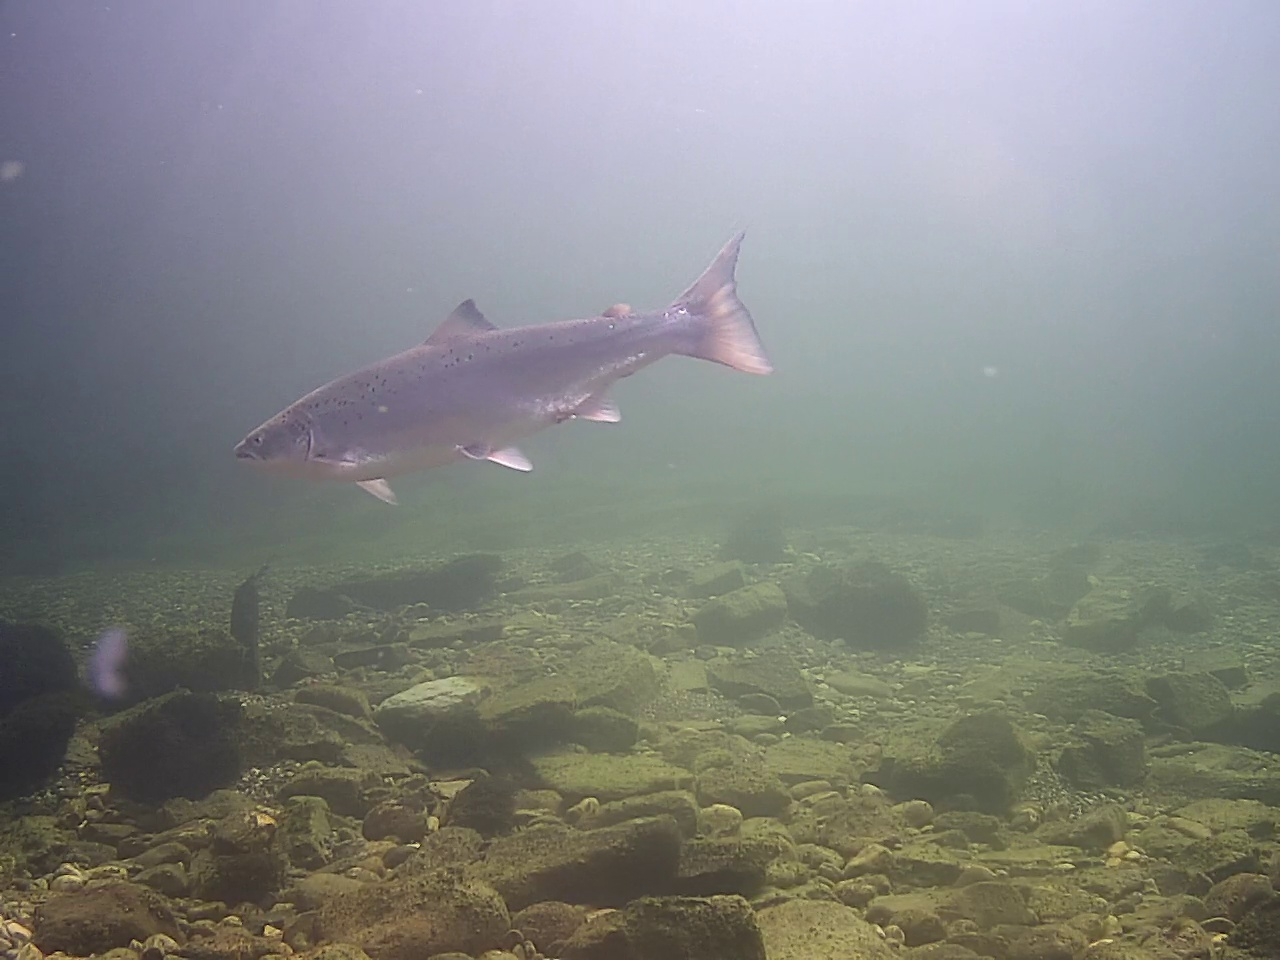salmon: (233, 228, 779, 509)
